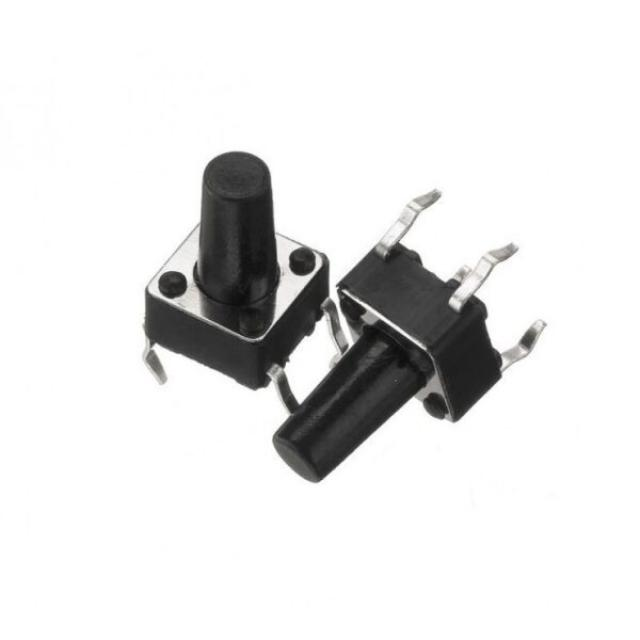Push button: (144, 151, 547, 485)
